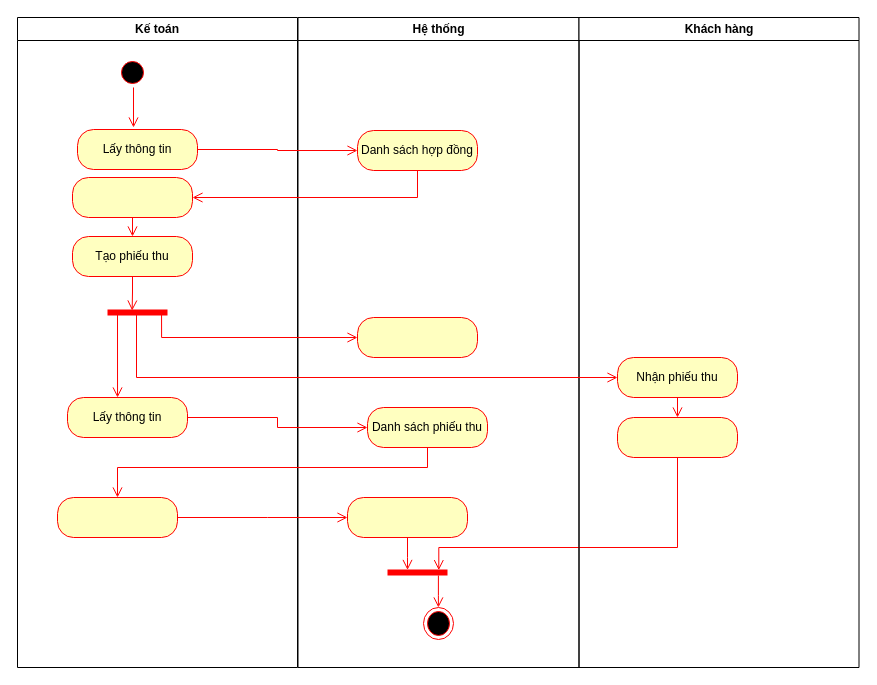
Image size: 877x685. Some labels were removed from this diagram. Here are the shapes that lost their labels. From the top down, the box of each, then its label:
(72, 176, 192, 218): Tính tiền nhà
(356, 316, 478, 358): Lưu phiếu thu
(616, 416, 738, 458): Thanh toán hóa đơn
(56, 496, 178, 538): Tạo báo cáo tài chính
(346, 496, 468, 538): Lưu báo cáo
